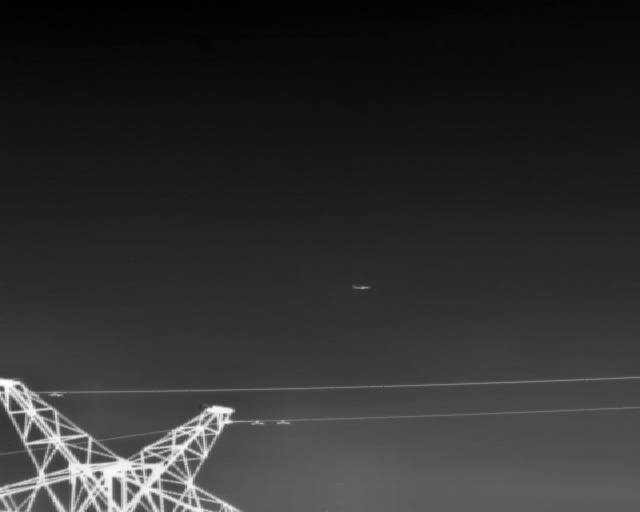Target: (353, 285, 372, 291)
